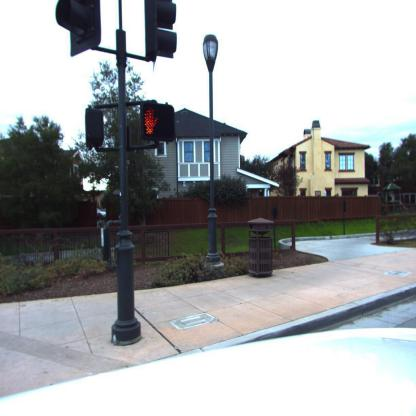traffic light: (56, 1, 102, 57), (147, 0, 178, 60), (141, 102, 176, 143), (86, 108, 106, 150)
